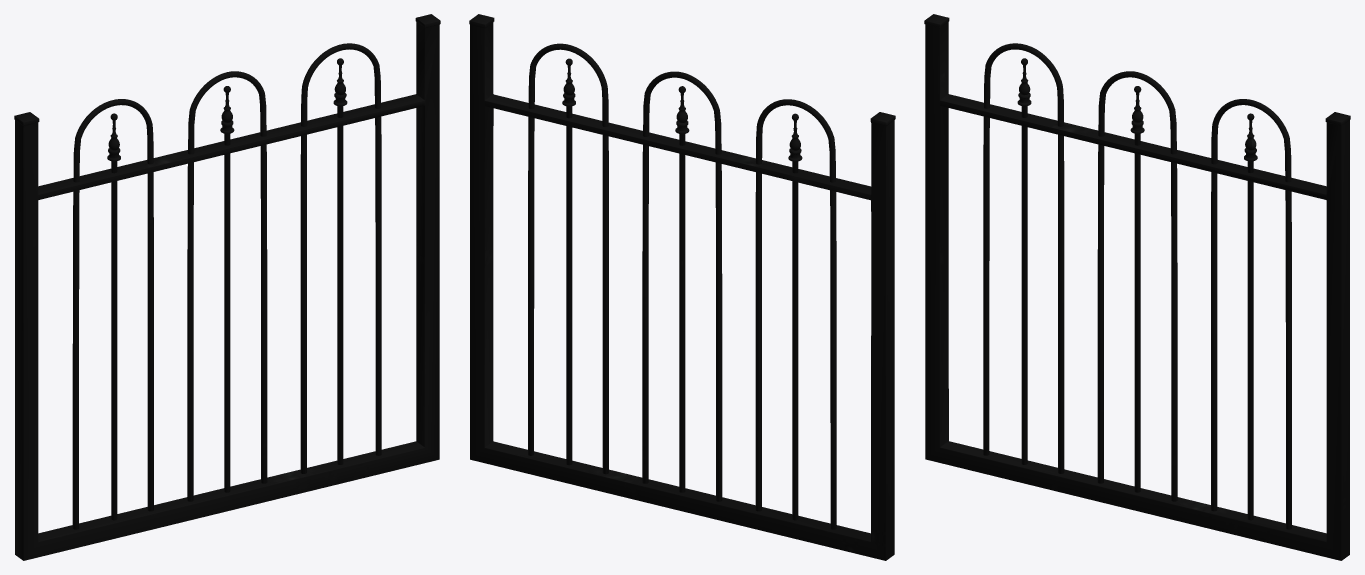
File: cast_iron_fence_02_87468baa.fbx
3 renders of one model, left to right at view 1: azimuth 30°, elevation 25°; view 2: azimuth 150°, elevation 25°; view 3: azimuth 330°, elevation 25°, orthographic.
Visible parts, largest first — view 1: cast_iron_fence_02_87468baa; view 2: cast_iron_fence_02_87468baa; view 3: cast_iron_fence_02_87468baa.
Boxes of the visible parts, <box> form: cast_iron_fence_02_87468baa: <box>14,14,440,560</box>; cast_iron_fence_02_87468baa: <box>469,14,895,560</box>; cast_iron_fence_02_87468baa: <box>924,14,1350,560</box>.
Bounding box in the file's own units: 1.49 × 1.5 × 0.0573.
Materials: 1 (1 with a texture image).
